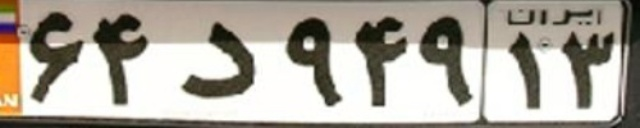1: (506, 30, 541, 108)
3: (560, 29, 614, 109)
4: (91, 11, 158, 106), (353, 13, 408, 107)
6: (26, 11, 85, 102)
9: (286, 15, 342, 107), (420, 15, 472, 108)
dal: (180, 20, 258, 100)
